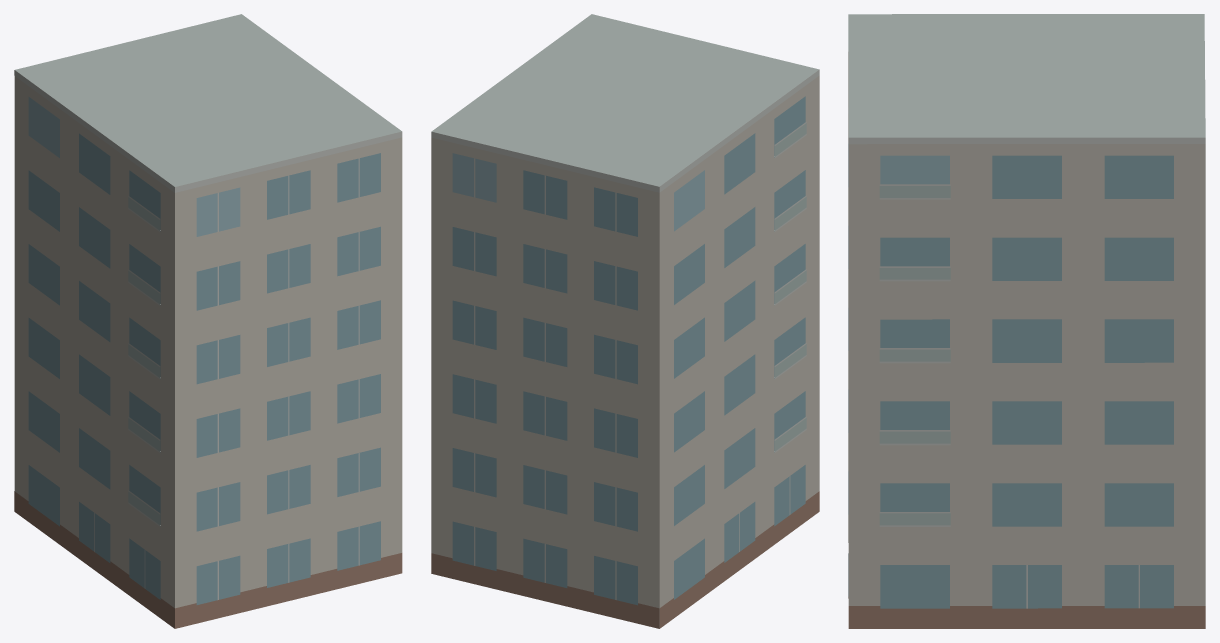
File: survey-upis-32908782.glb
The picture shows the model from 3 angles, left to right: view 1: azimuth 30°, elevation 25°; view 2: azimuth 150°, elevation 25°; view 3: azimuth 270°, elevation 25°; orthographic projection. The views are drawn at different scales.
Visible parts, largest first — view 1: survey-upis-32908782.tmp; view 2: survey-upis-32908782.tmp; view 3: survey-upis-32908782.tmp.
Part boxes in pixels (x1=…): survey-upis-32908782.tmp: x1=14, y1=14, x2=402, y2=628; survey-upis-32908782.tmp: x1=431, y1=14, x2=819, y2=628; survey-upis-32908782.tmp: x1=848, y1=14, x2=1205, y2=628.
Size of the model in its own units: 9.95 by 18.3 by 12.08.
